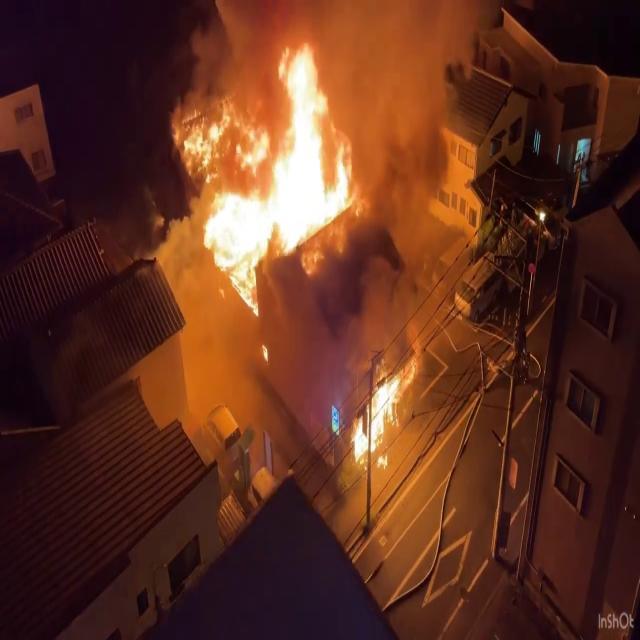Fire: (176, 41, 367, 318), (338, 349, 414, 478)
Smoke: (315, 0, 497, 130)
